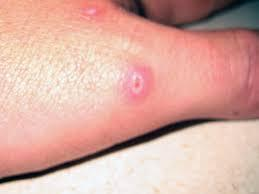Spider: (120, 64, 153, 104)
